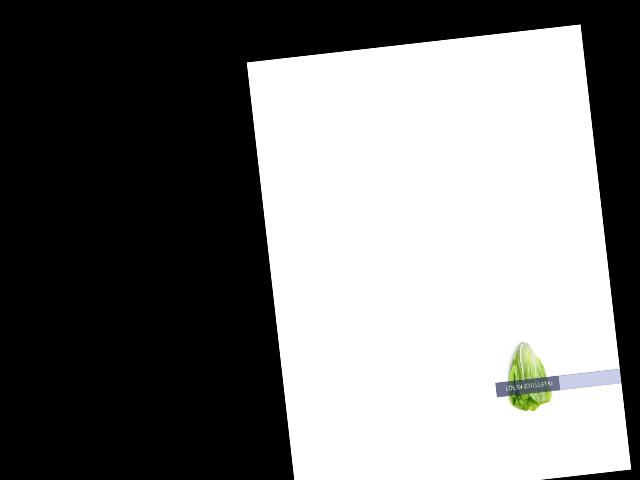lettuce: (498, 333, 555, 413)
